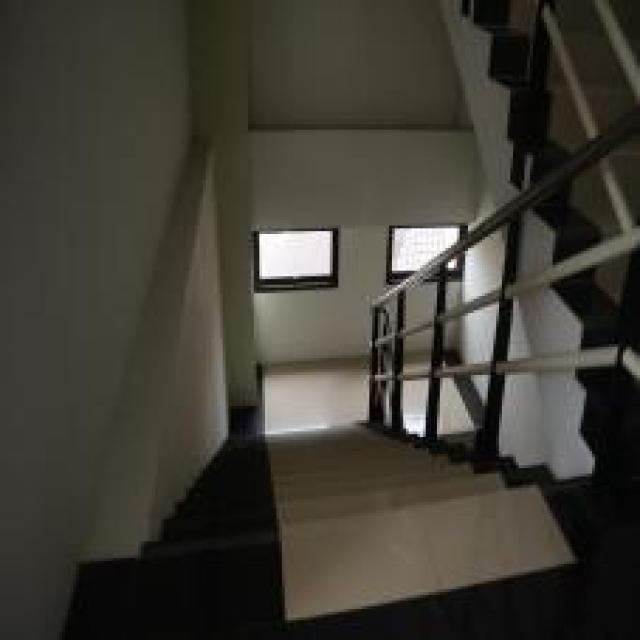downstair: (204, 421, 497, 638)
